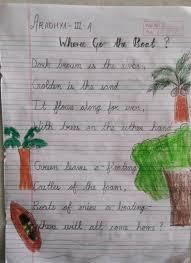text: (32, 118, 174, 133), (31, 199, 153, 216), (58, 35, 171, 53), (31, 98, 146, 115), (35, 219, 165, 233), (33, 159, 138, 176), (30, 178, 127, 195), (30, 56, 146, 70), (28, 12, 94, 34), (31, 77, 122, 91), (145, 21, 159, 29)
